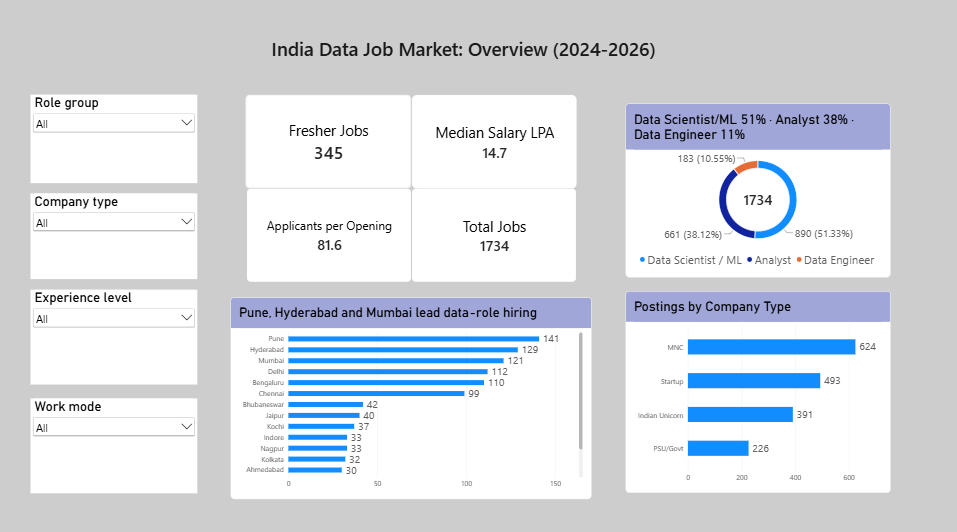

The page's visual inventory and layout, read from the dashboard file:
{"tool":"powerbi","page":{"name":"Overview","canvas":[1920,1080],"ordinal":0},"visuals":[{"type":"cardVisual","title":"Applicants per Opening","fields":{"Data":["jobs.Applicants per Opening"]},"box":[498,386,329.3,187.3],"z":0},{"type":"cardVisual","title":"Median Salary (LPA)","fields":{"Data":["jobs.Median Salary LPA"]},"box":[828,198,330,188],"z":1000},{"type":"cardVisual","title":"Fresher-Level Postings","fields":{"Data":["jobs.Fresher Jobs"]},"box":[496,198,331.4,187.3],"z":2000},{"type":"cardVisual","title":"Data Job Postings","fields":{"Data":["jobs.Total Jobs"]},"box":[828,386,329.3,187.3],"z":3000},{"type":"clusteredBarChart","title":"Postings by Company Type","fields":{"Category":["jobs.company_type"],"Y":["jobs.Total Jobs"]},"box":[1256,590,530,404],"z":4000},{"type":"clusteredBarChart","title":"Pune, Hyderabad and Mumbai lead data-role hiring","fields":{"Category":["jobs.city"],"Y":["jobs.Total Jobs"]},"box":[466,602,722,404],"z":5000},{"type":"donutChart","title":"Data Scientist/ML 51% · Analyst 38% · Data Engineer 11%","fields":{"Category":["jobs.role_group"],"Y":["jobs.Total Jobs"]},"box":[1256,216,530,348],"z":6000},{"type":"slicer","fields":{"Values":["jobs.role_group"]},"box":[64,198,333.4,177],"z":7000},{"type":"slicer","fields":{"Values":["jobs.experience_level"]},"box":[64,588,333.4,189.4],"z":8000},{"type":"slicer","fields":{"Values":["jobs.work_mode"]},"box":[64,804,333.4,189.4],"z":9000},{"type":"slicer","fields":{"Values":["jobs.company_type"]},"box":[64,394,333.4,170.8],"z":10000},{"type":"textbox","box":[20,60,1822,138],"z":11000}]}

Visuals, with their boxes in screenshot pixels (x1, y1, x2, y2), scaled from the page's 1920x1080 canvas onto the 957x532 screenshot:
"Applicants per Opening" cardVisual: box=[248, 190, 412, 282]
"Median Salary (LPA)" cardVisual: box=[413, 98, 577, 190]
"Fresher-Level Postings" cardVisual: box=[247, 98, 412, 190]
"Data Job Postings" cardVisual: box=[413, 190, 577, 282]
"Postings by Company Type" clusteredBarChart: box=[626, 291, 890, 490]
"Pune, Hyderabad and Mumbai lead data-role hiring" clusteredBarChart: box=[232, 297, 592, 496]
"Data Scientist/ML 51% · Analyst 38% · Data Engineer 11%" donutChart: box=[626, 106, 890, 278]
slicer - jobs.role_group: box=[32, 98, 198, 185]
slicer - jobs.experience_level: box=[32, 290, 198, 383]
slicer - jobs.work_mode: box=[32, 396, 198, 489]
slicer - jobs.company_type: box=[32, 194, 198, 278]
textbox: box=[10, 30, 918, 98]
